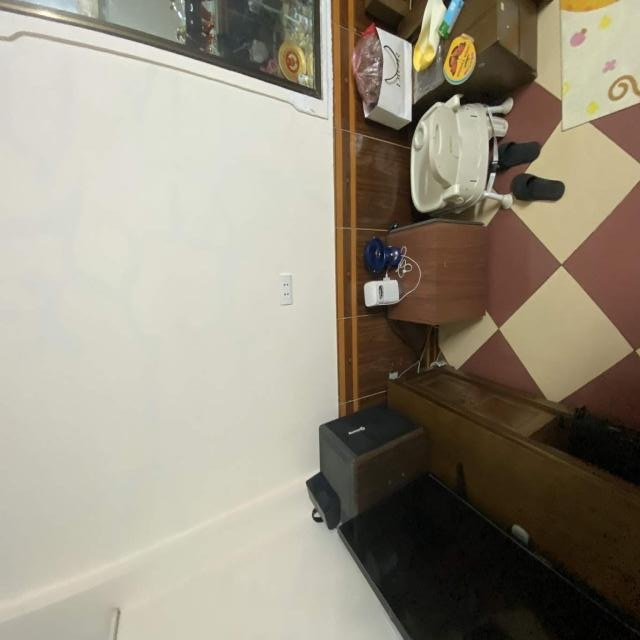outlet: (279, 274, 293, 306)
